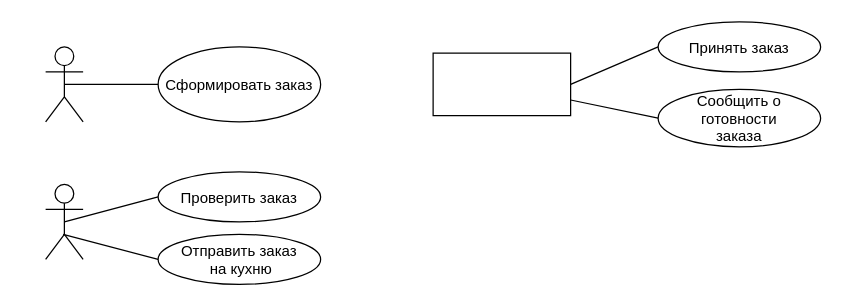
Some shapes in this 843 by 308 pixel diagram are drawn without their labels. Here are the shapes that lost their labels. From the top down, the box of each, then its label:
(44, 46, 83, 122): Клиент
(432, 52, 571, 116): Кухня
(44, 183, 83, 259): Оффициант
